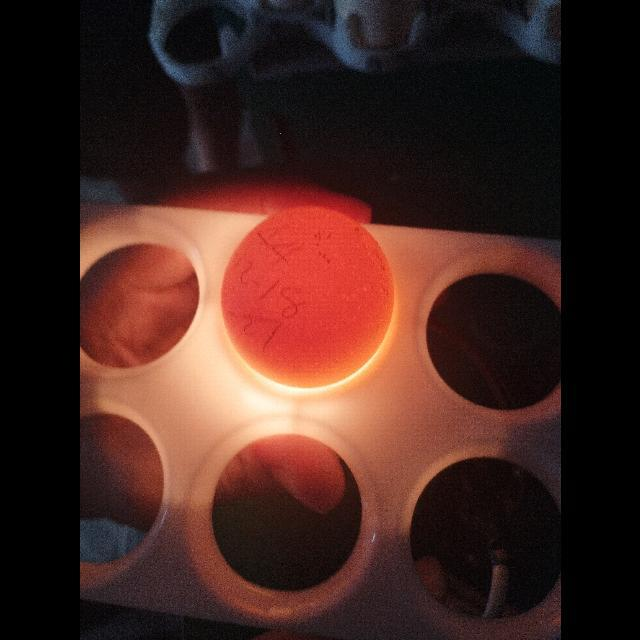Infertile: (218, 202, 400, 392)
